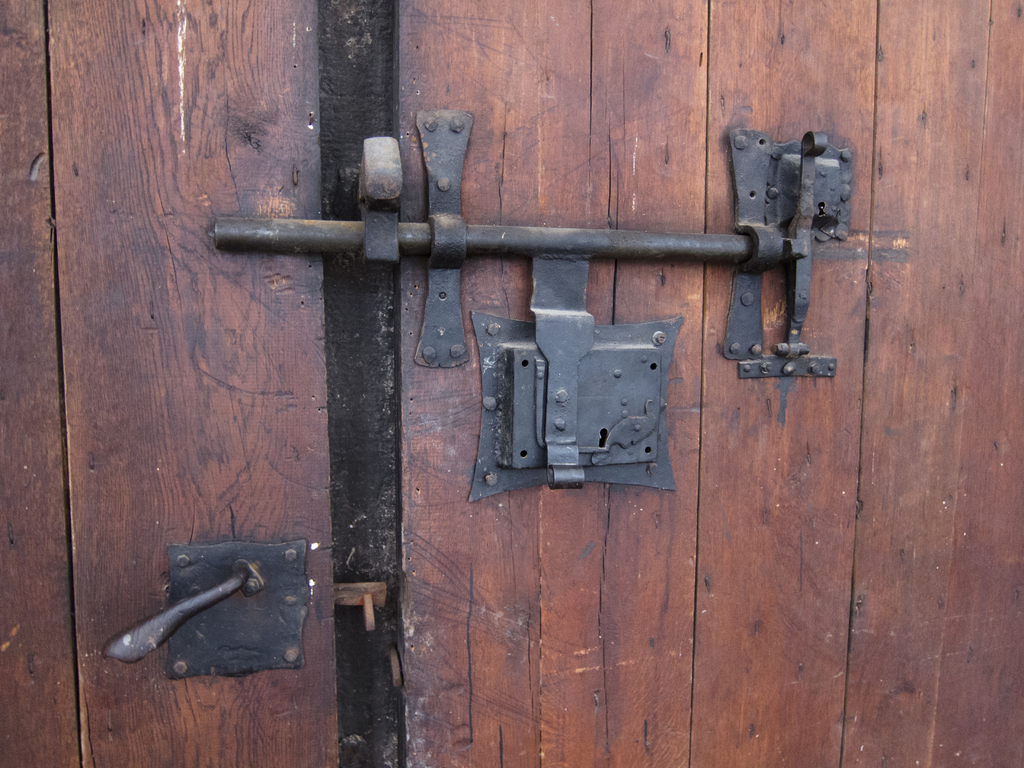door: (399, 26, 1024, 768), (18, 16, 345, 768)
handle: (115, 548, 252, 678)
